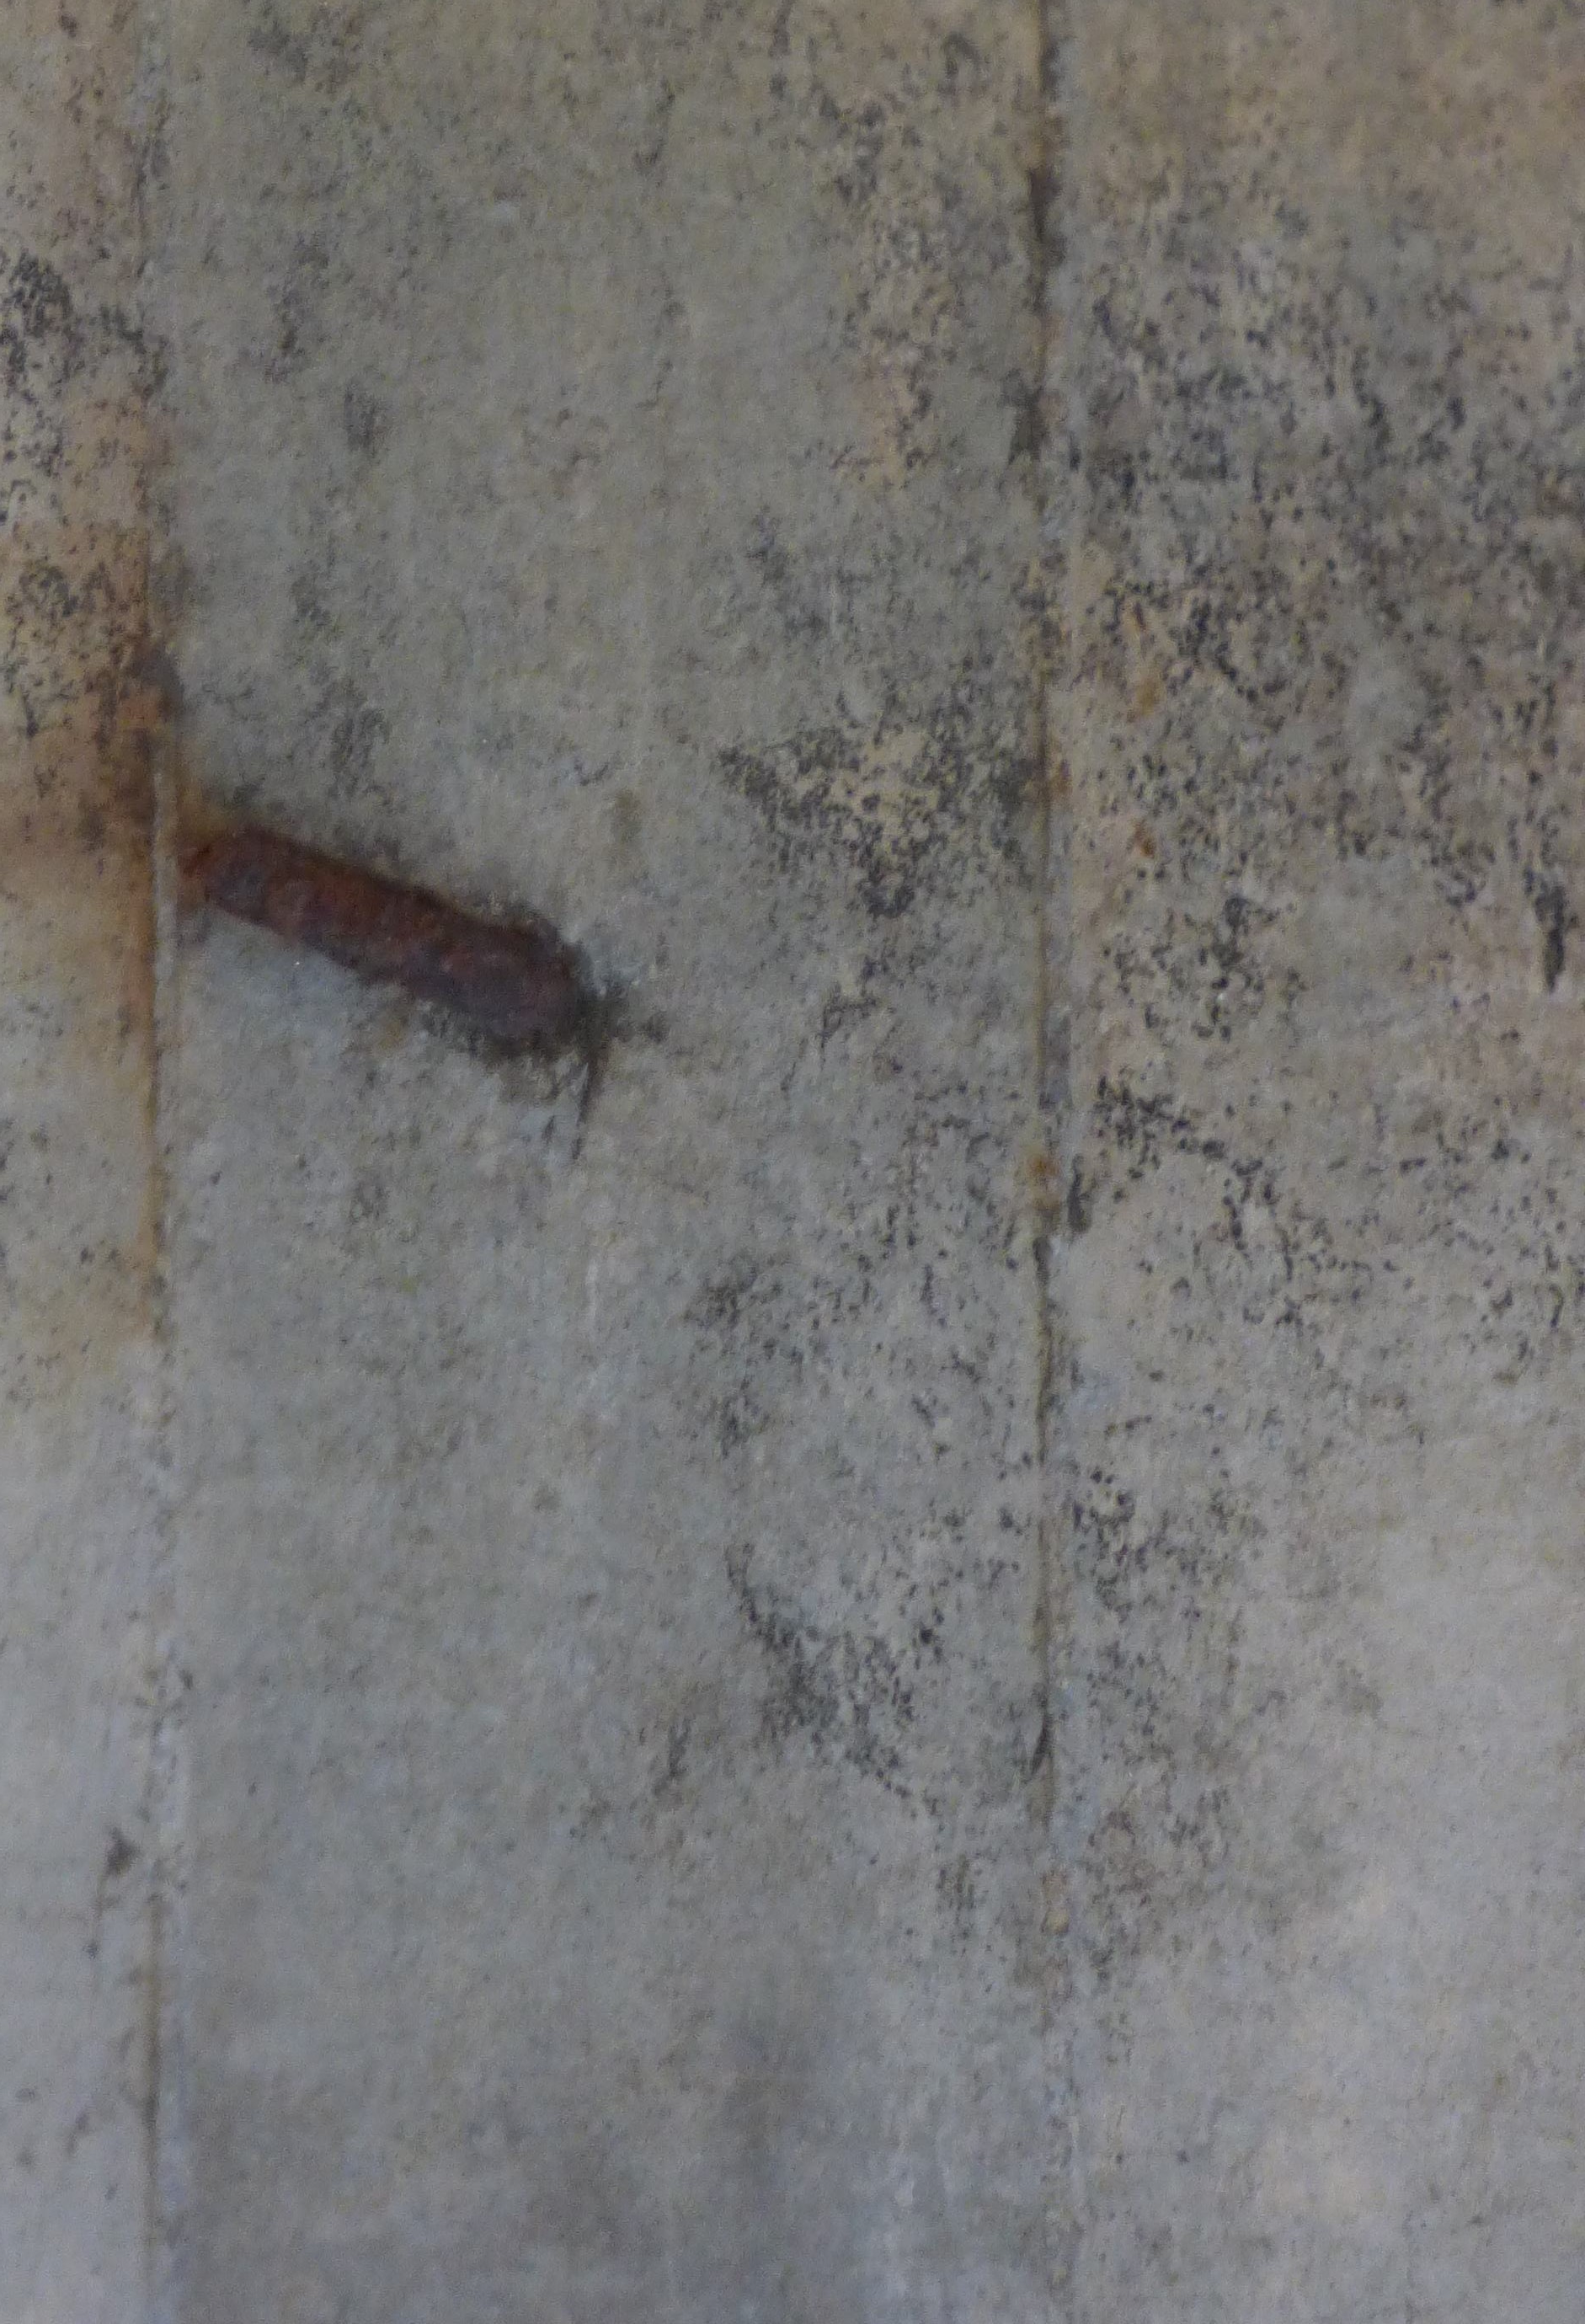Exposed reinforcement: (182, 825, 579, 1038)
